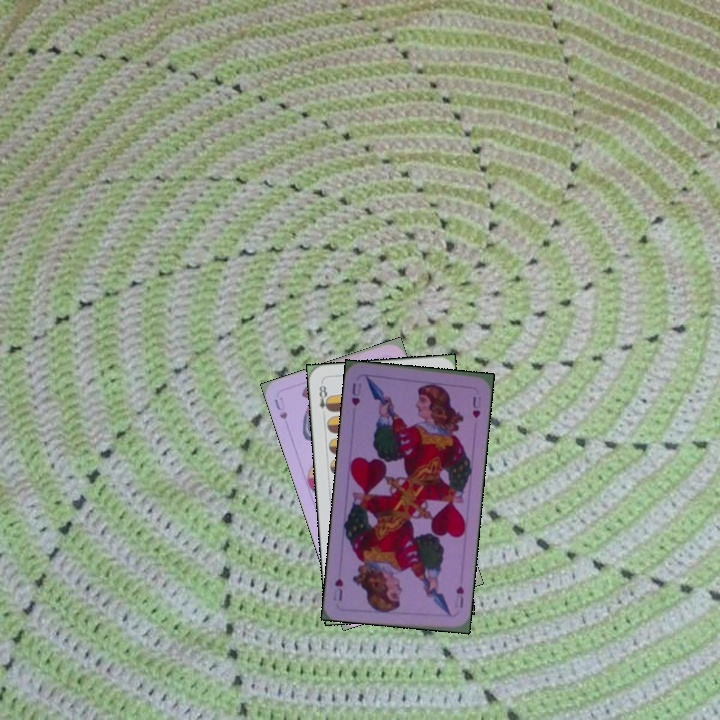E8: (315, 379, 333, 414)
HU: (347, 379, 364, 409), (450, 582, 466, 610)
SU: (270, 393, 290, 422)
